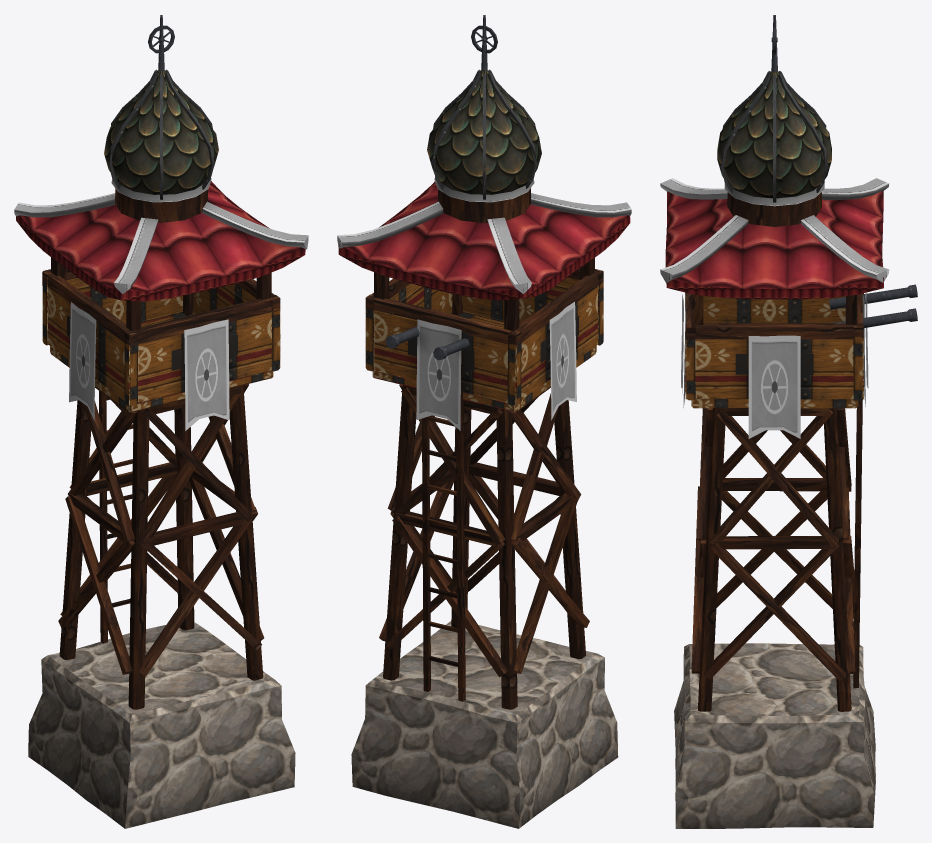
Rendered from kingdom_gun_tower.glb.
3 renders of one model, left to right at view 1: azimuth 30°, elevation 25°; view 2: azimuth 150°, elevation 25°; view 3: azimuth 270°, elevation 25°, orthographic.
Parts seen in each view (by area): view 1: kingdom_gun_tower; view 2: kingdom_gun_tower; view 3: kingdom_gun_tower.
Boxes of the visible parts, x1,y1,x2,y2 form: kingdom_gun_tower: (14, 15, 308, 828); kingdom_gun_tower: (337, 15, 631, 828); kingdom_gun_tower: (660, 15, 917, 828).
Size of the model in its own units: 2.03 by 7.55 by 2.28.
Materials: 2 (2 with a texture image).
